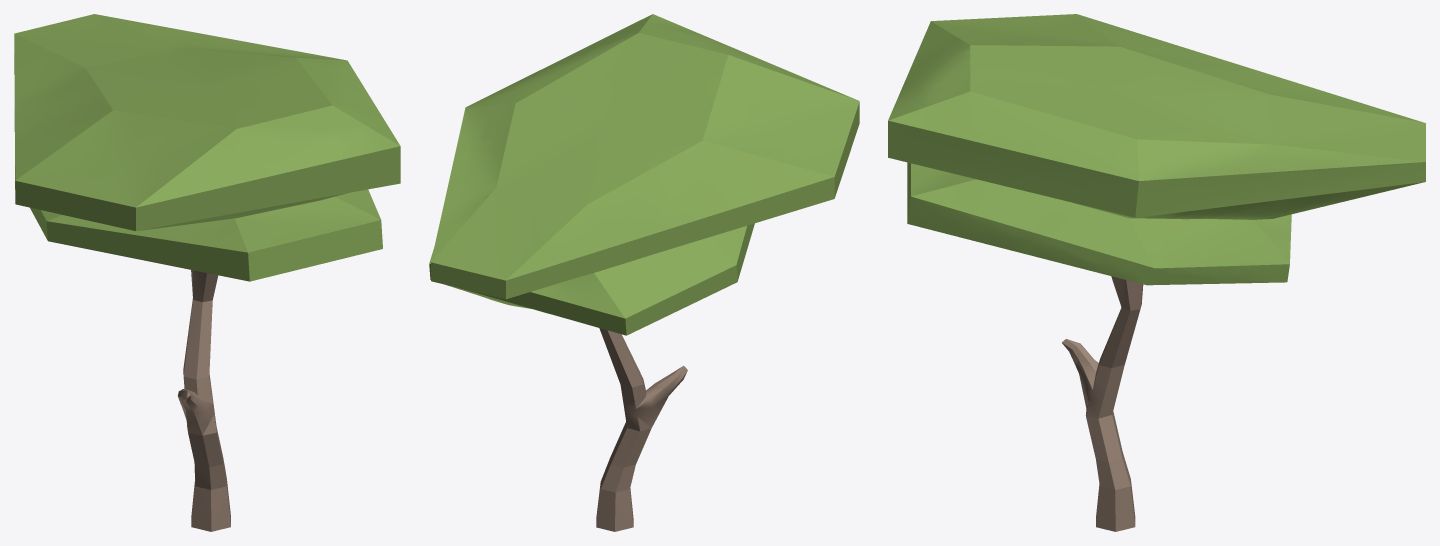
Rendered from TreeCoveA.fbx.
3 views of the same model, side by side, from view 1: azimuth 30°, elevation 25°; view 2: azimuth 150°, elevation 25°; view 3: azimuth 270°, elevation 25° (orthographic). The views are drawn at different scales.
Visible parts, largest first — view 1: tree_cove_a; view 2: tree_cove_a; view 3: tree_cove_a.
Part boxes in pixels (left/top/right/bottom): tree_cove_a: left=14, top=14, right=400, bottom=531; tree_cove_a: left=429, top=14, right=859, bottom=531; tree_cove_a: left=888, top=14, right=1425, bottom=531.
Bounding box in the file's own units: 400 × 473 × 508.
